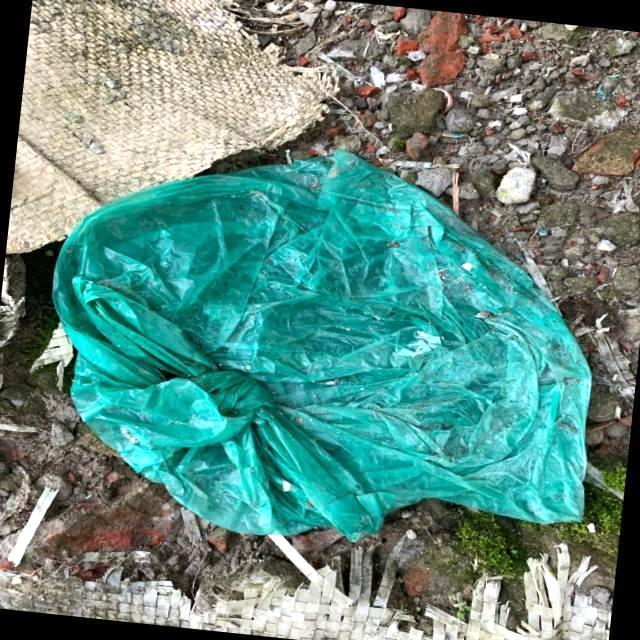polythene: (40, 128, 625, 573)
